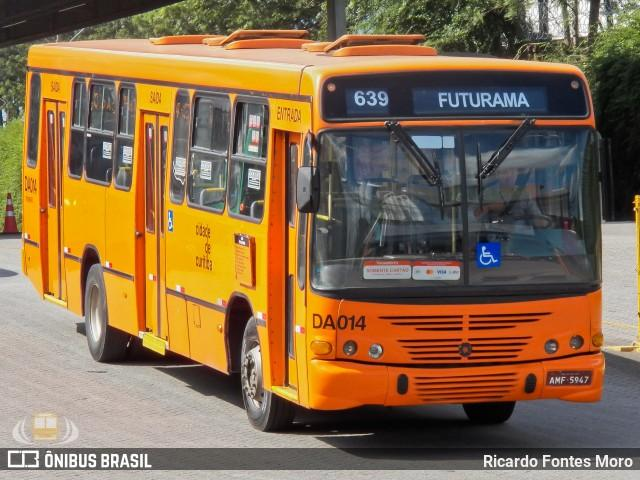FUTURAMA: (431, 87, 536, 114)
